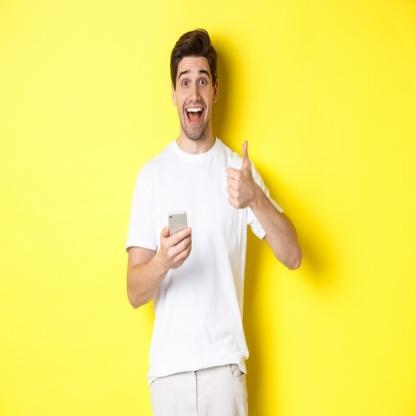thumb_up: (219, 136, 260, 213)
